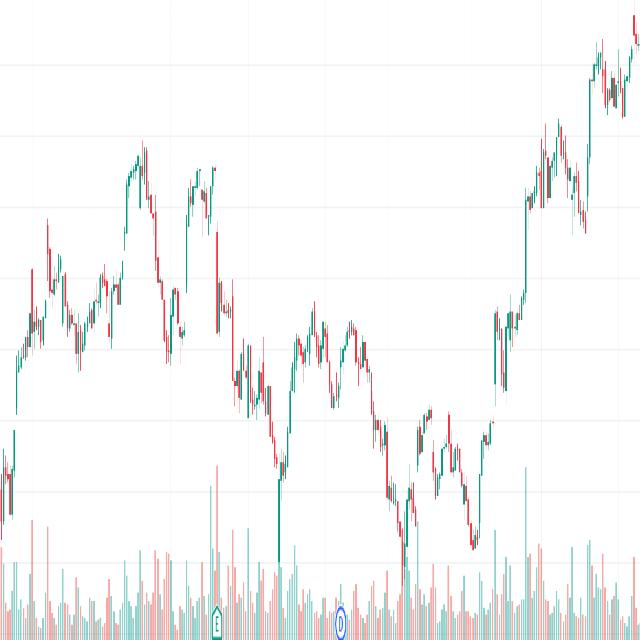Double-Bottom: (284, 273, 381, 532), (156, 261, 193, 375)
